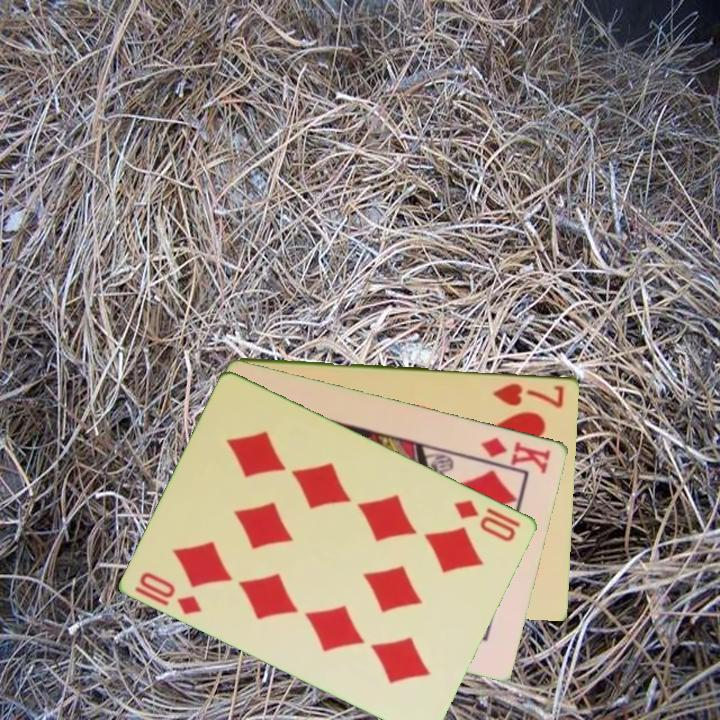10d: (131, 568, 206, 618), (451, 495, 520, 545)
7h: (489, 379, 567, 410)
Kd: (478, 433, 554, 476)
